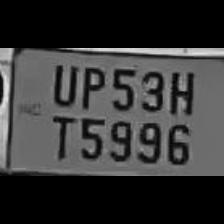3: (138, 66, 164, 112)
5: (105, 63, 135, 111), (74, 113, 104, 161)
6: (163, 119, 193, 165)
9: (104, 116, 132, 162), (134, 118, 160, 164)
H: (164, 66, 196, 118)
P: (76, 62, 104, 110)
T: (45, 111, 75, 160)
U: (47, 58, 77, 106)
